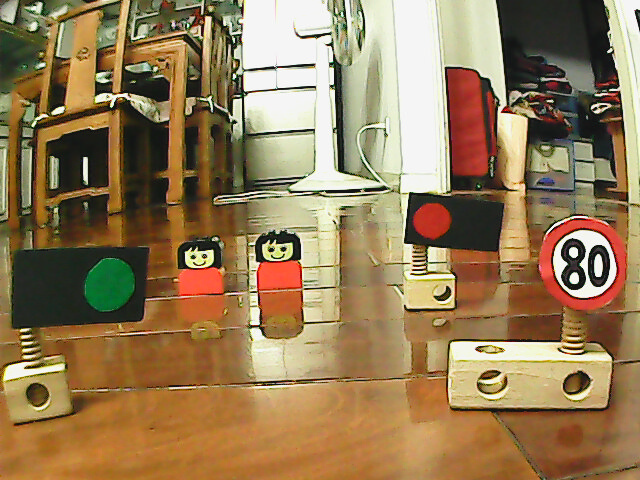Green Traffic Light: (79, 248, 143, 321)
Person: (252, 227, 307, 294), (173, 233, 229, 298)
Red Traffic Light: (406, 195, 454, 245)
Speed Limit 80: (535, 211, 631, 314)
